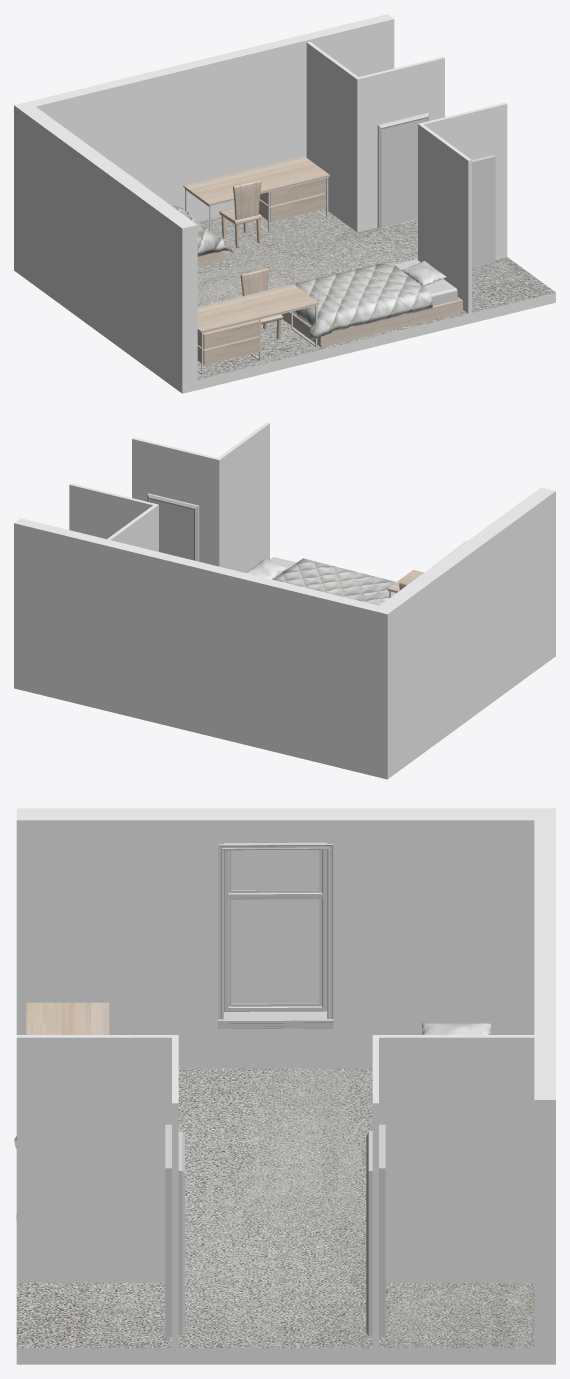
Rendered from suite2.glb.
The picture shows the model from 3 angles, top to bottom: view 1: azimuth 30°, elevation 25°; view 2: azimuth 150°, elevation 25°; view 3: azimuth 270°, elevation 25°; orthographic projection. The views are drawn at different scales.
Parts seen in each view (by area): view 1: Cube.007, Cube.001, Cube.008, Plane.002, Cube.006, Cube.012, Cube.013, Cube.010, Cube.016, Plane, Cube.005, Cube.017 (+10 smaller); view 2: Cube.007, Cube.008, Cube.001, Plane.002, Cube.012, Cube.015; view 3: Cube.007, Cube.001, Cube.008, window, Cube.006, Cube.012, Cube.016, Cube.004.
Part boxes in pixels (x1,y1,x2,y2): Cube.007: (14, 14, 555, 393); Cube.001: (306, 41, 444, 232); Cube.008: (418, 102, 535, 323); Plane.002: (289, 261, 432, 339); Cube.006: (377, 112, 429, 228); Cube.012: (472, 155, 495, 267); Cube.013: (281, 297, 462, 347); Cube.010: (242, 156, 327, 232); Cube.016: (197, 298, 261, 374); Plane: (219, 180, 261, 247); Cube.005: (183, 171, 269, 231); Cube.017: (234, 284, 318, 360); Cube.007: (14, 487, 555, 779); Cube.008: (132, 422, 269, 572); Cube.001: (69, 483, 158, 551); Plane.002: (273, 558, 395, 605); Cube.012: (147, 493, 199, 561); Cube.015: (246, 558, 288, 579); Cube.007: (16, 808, 555, 1364); Cube.001: (372, 1035, 534, 1364); Cube.008: (16, 1035, 178, 1364); window: (218, 842, 333, 1028); Cube.006: (366, 1124, 385, 1337); Cube.012: (165, 1124, 184, 1337); Cube.016: (26, 1002, 109, 1034); Cube.004: (422, 1023, 491, 1034).
Size of the model in its own units: 13.34 by 5.64 by 10.47.
13 materials, 6 textured.
